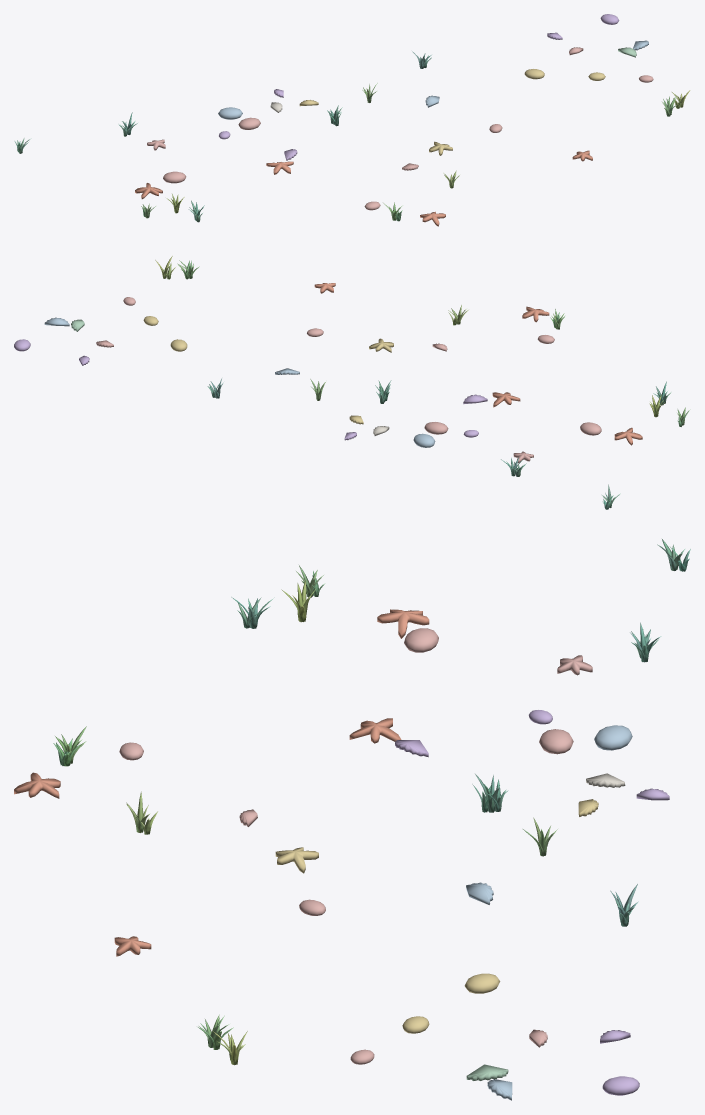
Rendered from W2_SpillFlora.fbx.
3 renders of one model, top to bottom at view 1: azimuth 30°, elevation 25°; view 2: azimuth 150°, elevation 25°; view 3: azimuth 270°, elevation 25°, orthographic. The views are drawn at different scales.
Parts seen in each view (by area): view 1: W2_SpillFlora; view 2: W2_SpillFlora; view 3: W2_SpillFlora.
Boxes of the visible parts, x1,y1,x2,y2 form: W2_SpillFlora: (14, 14, 690, 226); W2_SpillFlora: (14, 256, 690, 509); W2_SpillFlora: (14, 539, 690, 1100).
Bounding box in the file's own units: 2.77 × 0.1011 × 1.48.
